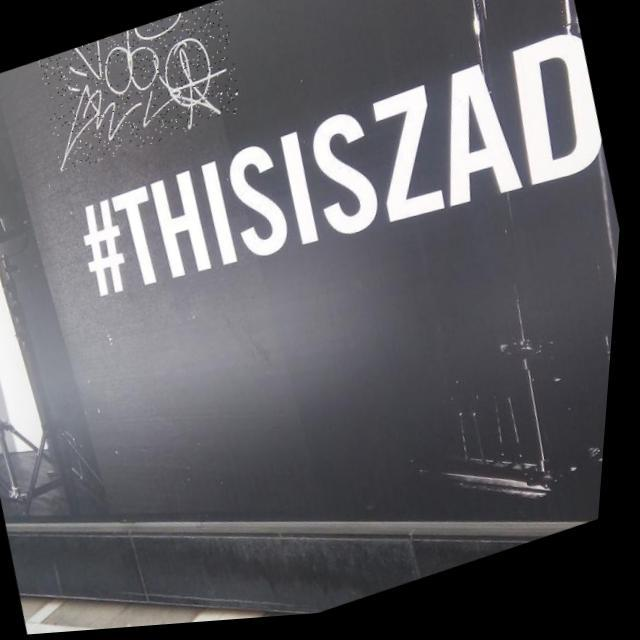-: (32, 0, 254, 176)
